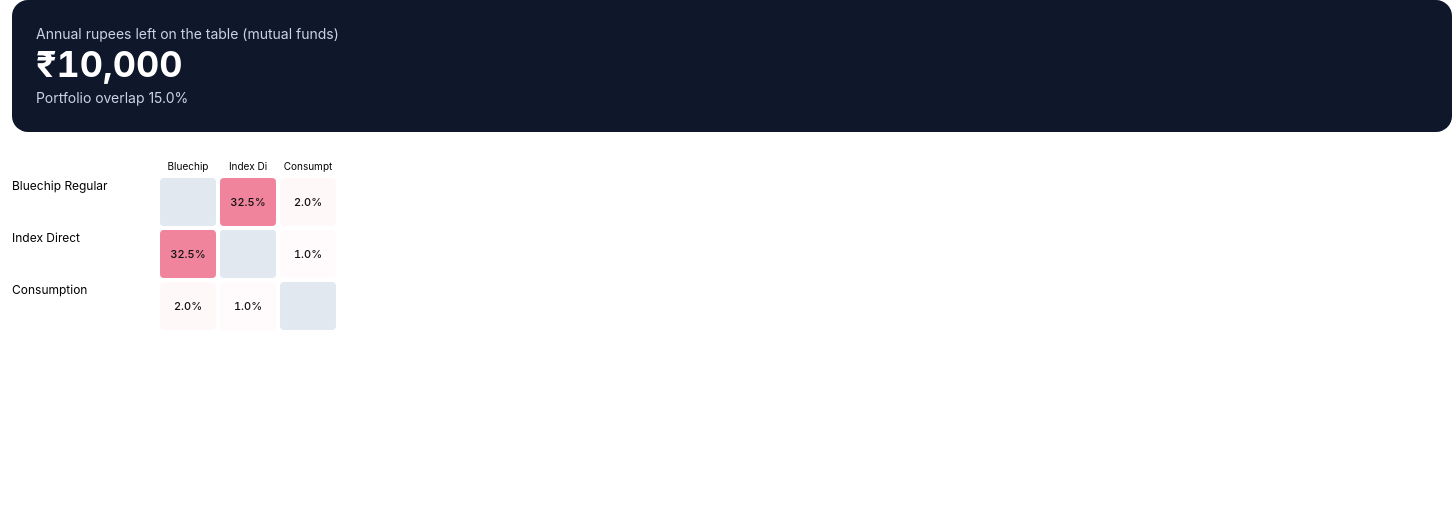
Test case: WealthLeakSummary › drills into shared stocks and the verdict when a heatmap cell is clicked
Step 1. Click the cell named "Bluechip Regular vs Index Direct: 32.5% overlap" → (248, 202), box top-left (220, 178), bottom-right (276, 226)
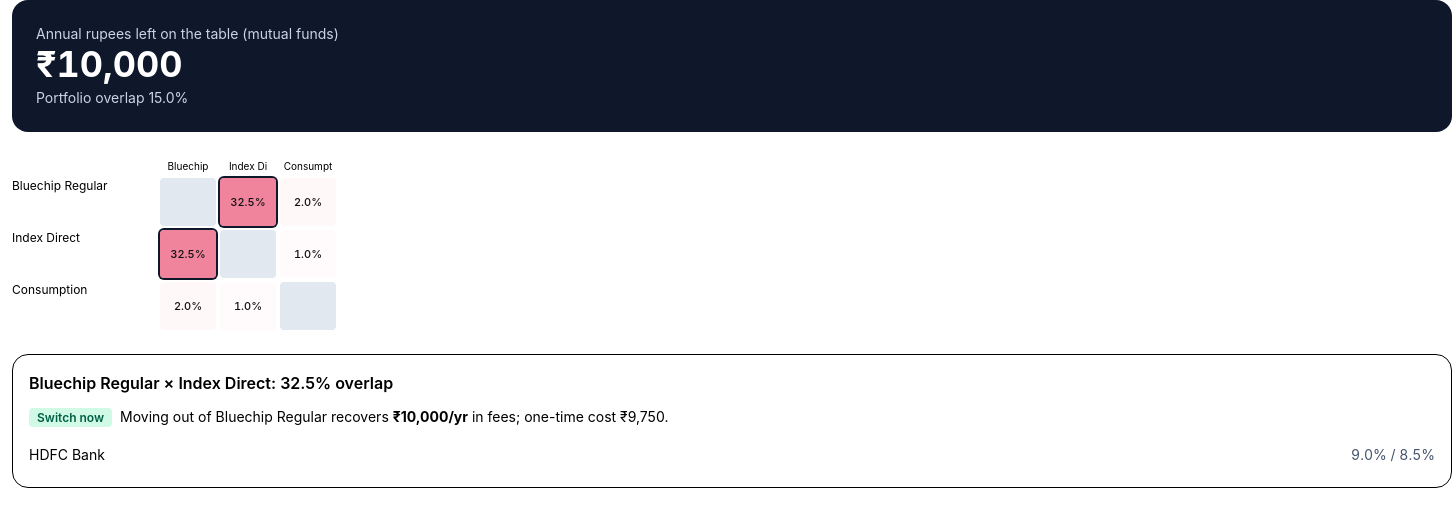
Check: the element with test id "pair-detail" shows "HDFC Bank", box top-left (29, 446), bottom-right (105, 463)
Check: the element with test id "pair-detail" shows "Switch now", box top-left (37, 410), bottom-right (104, 425)
Check: the element with test id "pair-detail" shows "₹10,000/yr", box top-left (12, 354), bottom-right (1451, 488)
